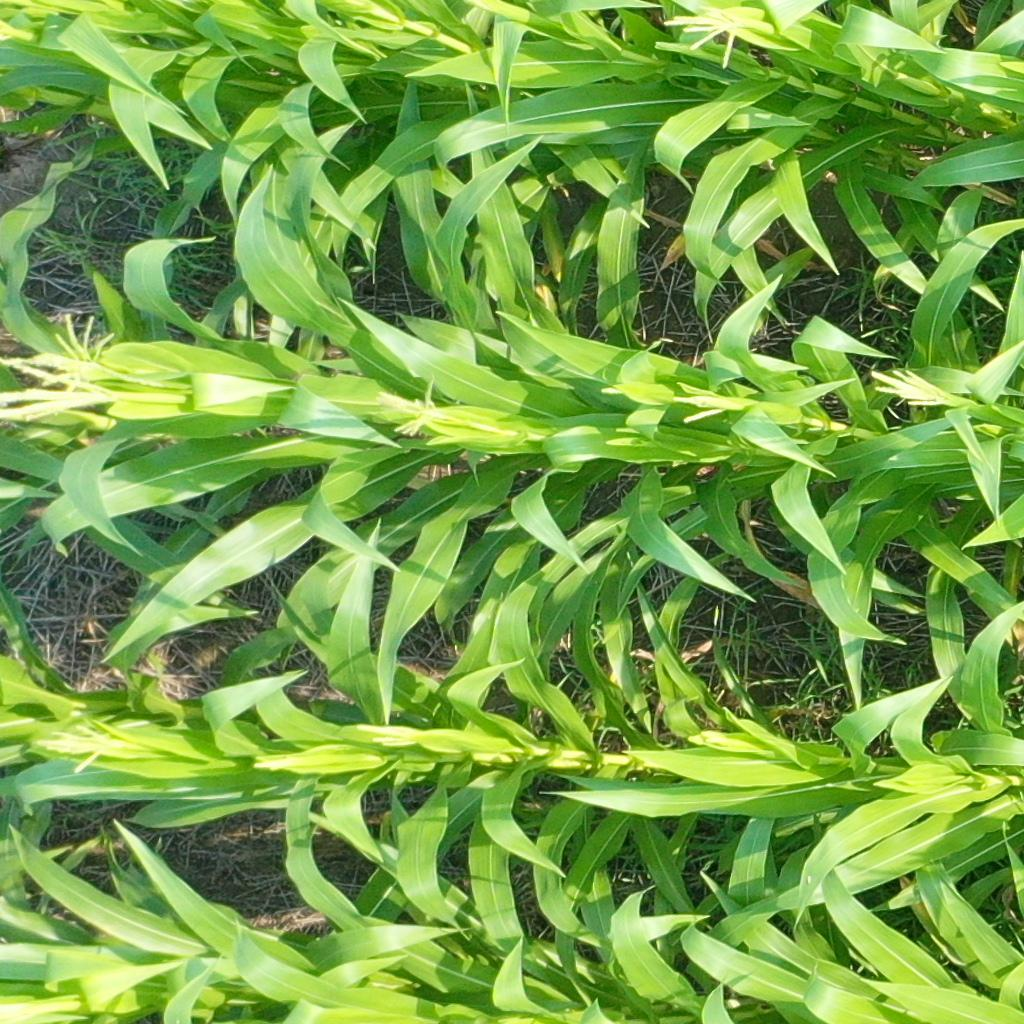Tassel: (25, 308, 161, 390), (1, 356, 120, 431), (368, 372, 471, 444), (32, 711, 128, 777), (657, 1, 750, 65), (866, 359, 957, 414), (659, 386, 734, 428), (351, 718, 424, 752), (697, 725, 755, 752), (247, 751, 310, 775)
